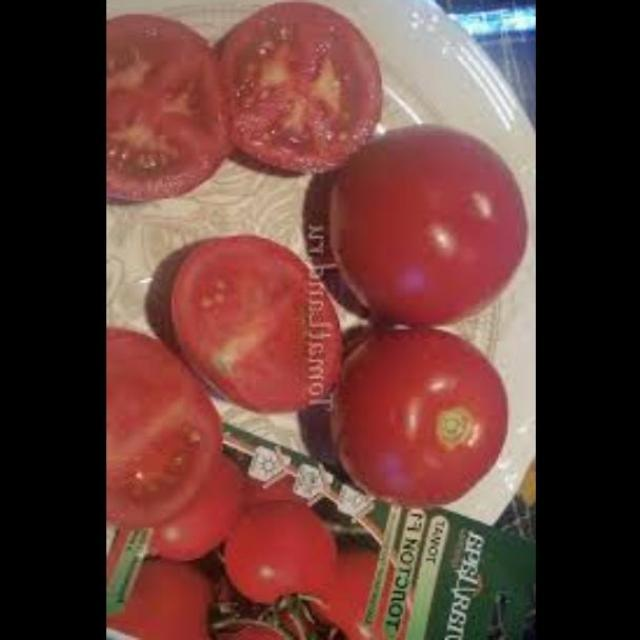Tomato: (332, 126, 528, 332), (326, 321, 510, 513), (165, 231, 353, 415), (221, 1, 390, 174), (107, 321, 228, 538), (107, 15, 230, 206), (210, 493, 334, 612), (152, 456, 260, 571), (114, 549, 232, 640), (313, 534, 410, 640)
